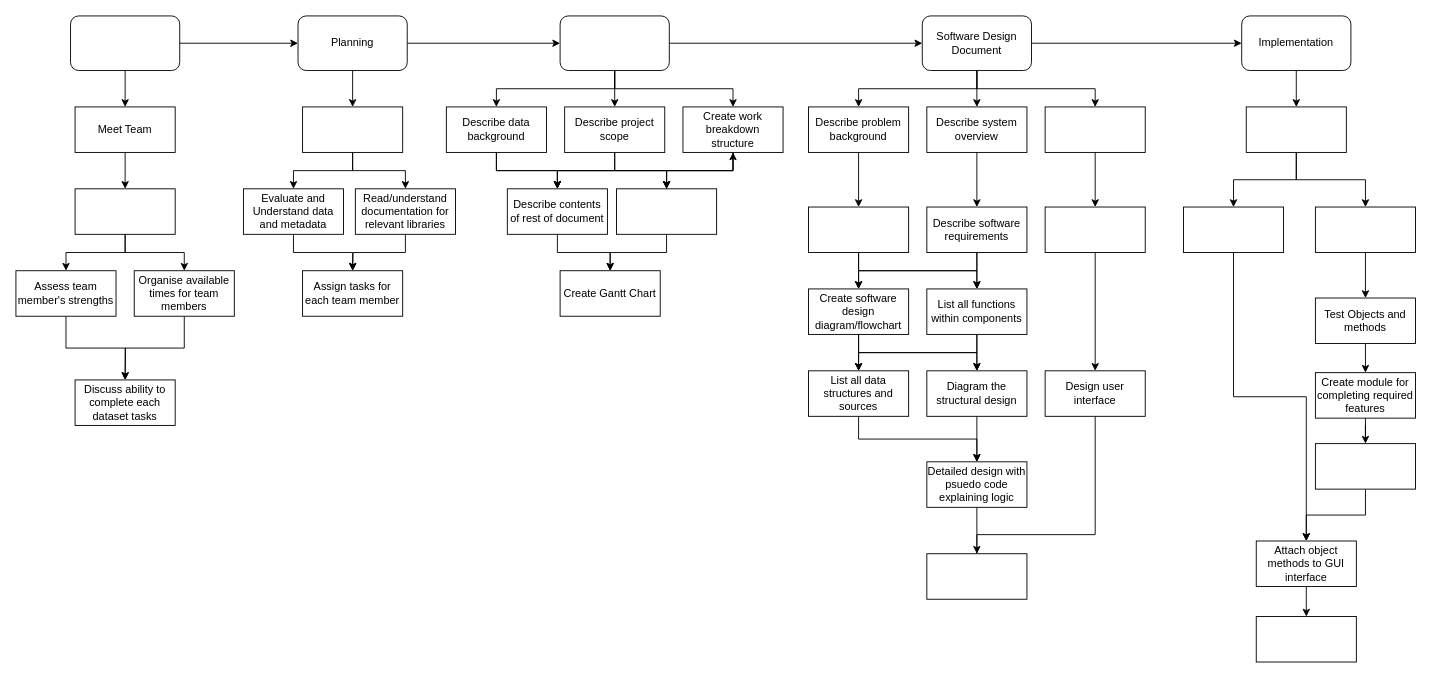
Some shapes in this 1431 by 678 pixel diagram are drawn without their labels. The centre of each missing label's shape, as x and y in pixels:
"Create Activity definition and estimation" belongs at point (666, 211).
"Create GUI according to design specs" belongs at point (1233, 229).
"Create members for data management" belongs at point (1365, 229).
"Create testing plan" belongs at point (1295, 129).
"Create visual design, including wireframes" belongs at point (976, 576).
"Describe the potential benefits" belongs at point (1094, 129).
"Describe use cases and provide use case diagrams" belongs at point (1094, 229).
"Describe user requirements" belongs at point (858, 229).
"Meeting to discuss/understand assessment" belongs at point (124, 211).
"Preparation" belongs at point (125, 43).
"Project Plan Document" belongs at point (614, 43).
"Select Dataset" belongs at point (352, 129).
"Test all features with existing datasets" belongs at point (1365, 466).
"Test functionality with all GUI inputs" belongs at point (1305, 639).
